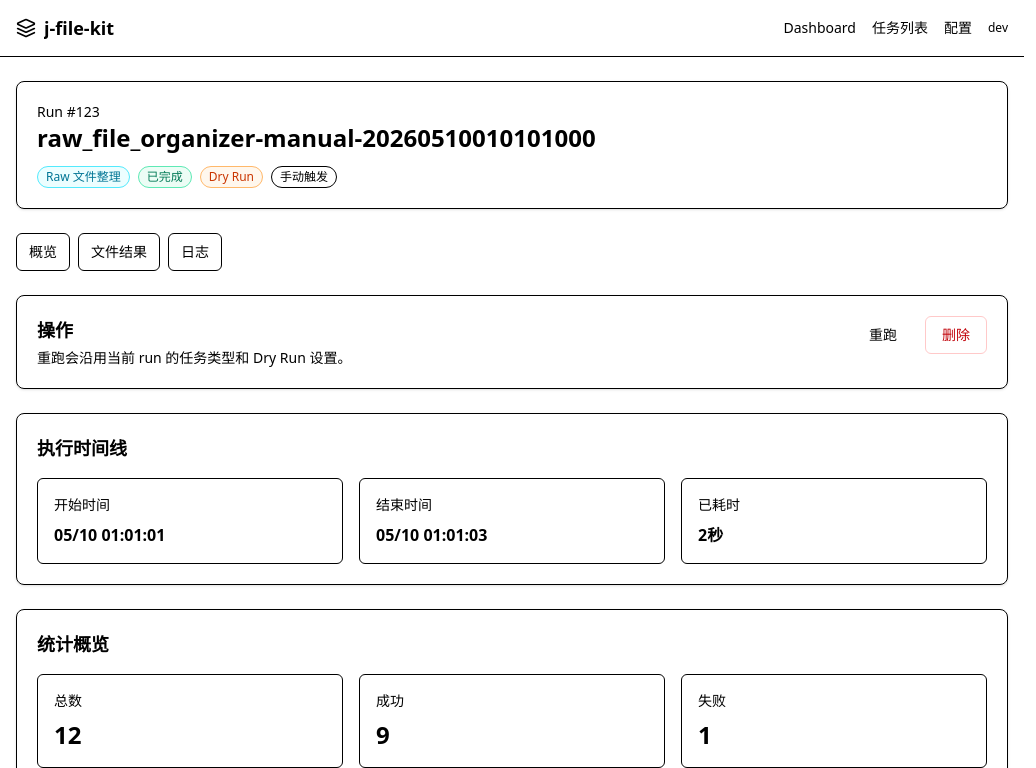
Test: Task detail page › filters file results by keyword and syncs to URL
The image size is (1036, 768).
Step 1. Click the tab "文件结果" → click(119, 252), box [78,233,160,271]
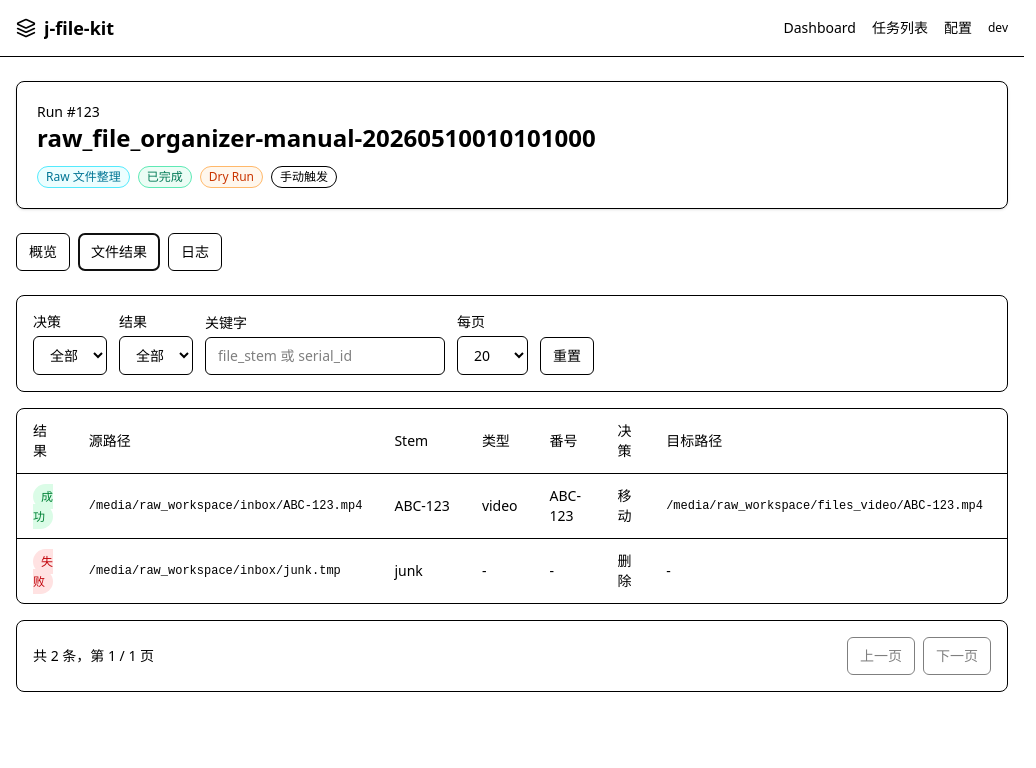
Step 2. Type "ABC" into the field with placeholder "file_stem 或 serial_id" → (325, 356), box [205,337,445,375]
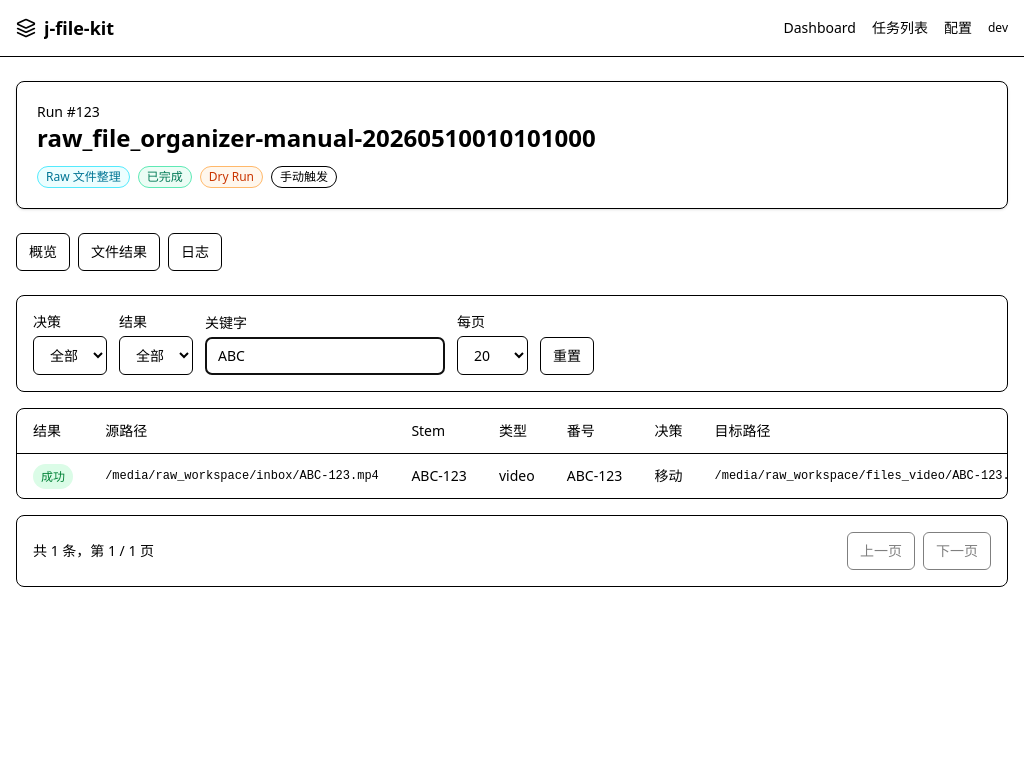
Result: the text "ABC-123" is shown at [411,466,467,486]
Result: the text "junk" is gone
